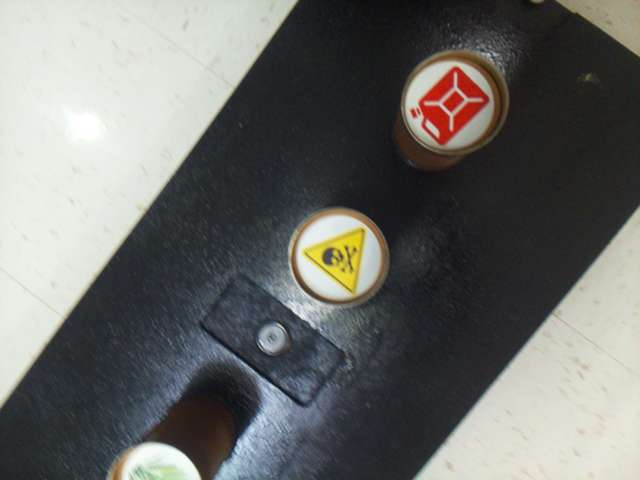gasoline: (405, 62, 494, 150)
toxic_fluid: (297, 218, 380, 300)
wheat_barrel: (120, 445, 199, 479)
